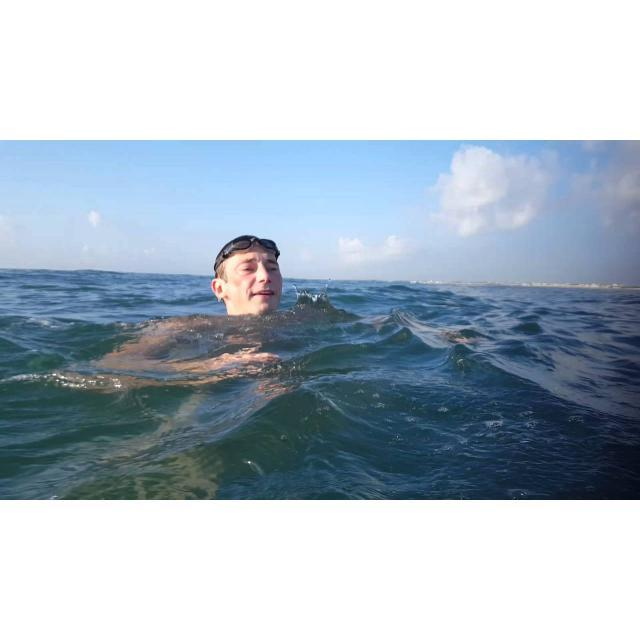human: (178, 235, 321, 375)
